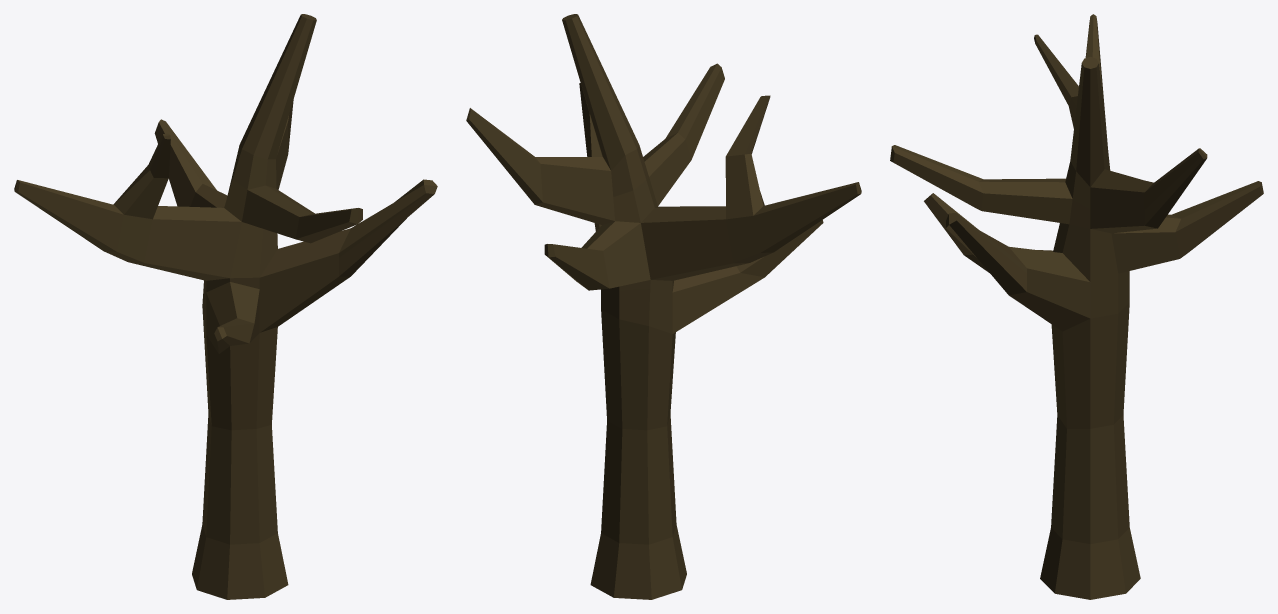
Rendered from deserttree.fbx.
3 views of the same model, side by side, from view 1: azimuth 30°, elevation 25°; view 2: azimuth 150°, elevation 25°; view 3: azimuth 270°, elevation 25° (orthographic).
Parts seen in each view (by area): view 1: desert tree; view 2: desert tree; view 3: desert tree.
Part boxes in pixels (left/top/right/bottom): desert tree: left=14, top=14, right=437, bottom=599; desert tree: left=466, top=14, right=861, bottom=599; desert tree: left=890, top=14, right=1263, bottom=599.
Size of the model in its own units: 237 by 353 by 216.
